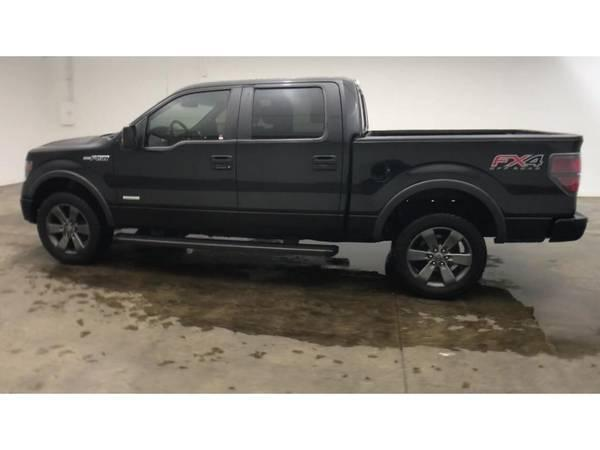Front_Fender: (22, 141, 121, 226)
Front_Left_Door: (121, 139, 237, 226)
Front_Left_Window: (128, 83, 248, 140)
Left_Taillight: (548, 153, 579, 195)
Rear_Bumper: (548, 211, 586, 243)
Rear_Fender: (346, 135, 583, 241)
Rear_Left_Door: (236, 138, 351, 233)
Rear_Left_Window: (244, 80, 337, 143)
Roof: (128, 72, 354, 136)
Wheel: (391, 213, 489, 300), (36, 189, 101, 264)
